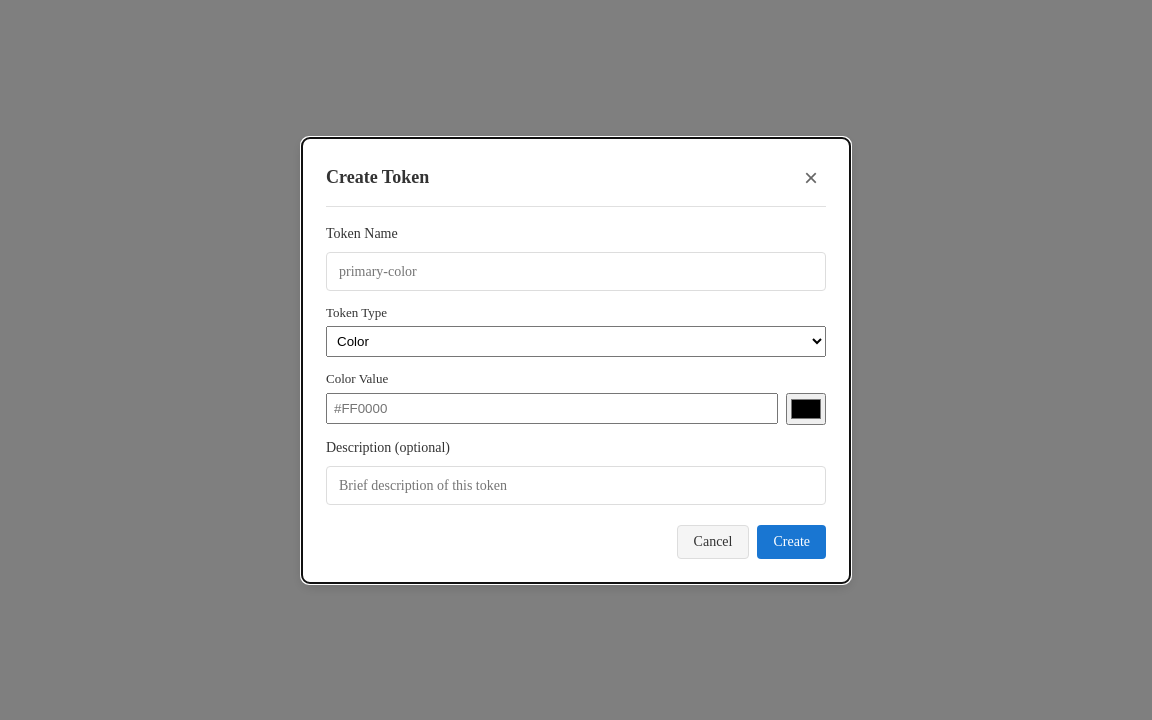
Test: TokenEditor › Create Mode › shows error when name is empty
Click the button "Create". click: (792, 542)
box: left=758, top=524, right=826, bottom=558
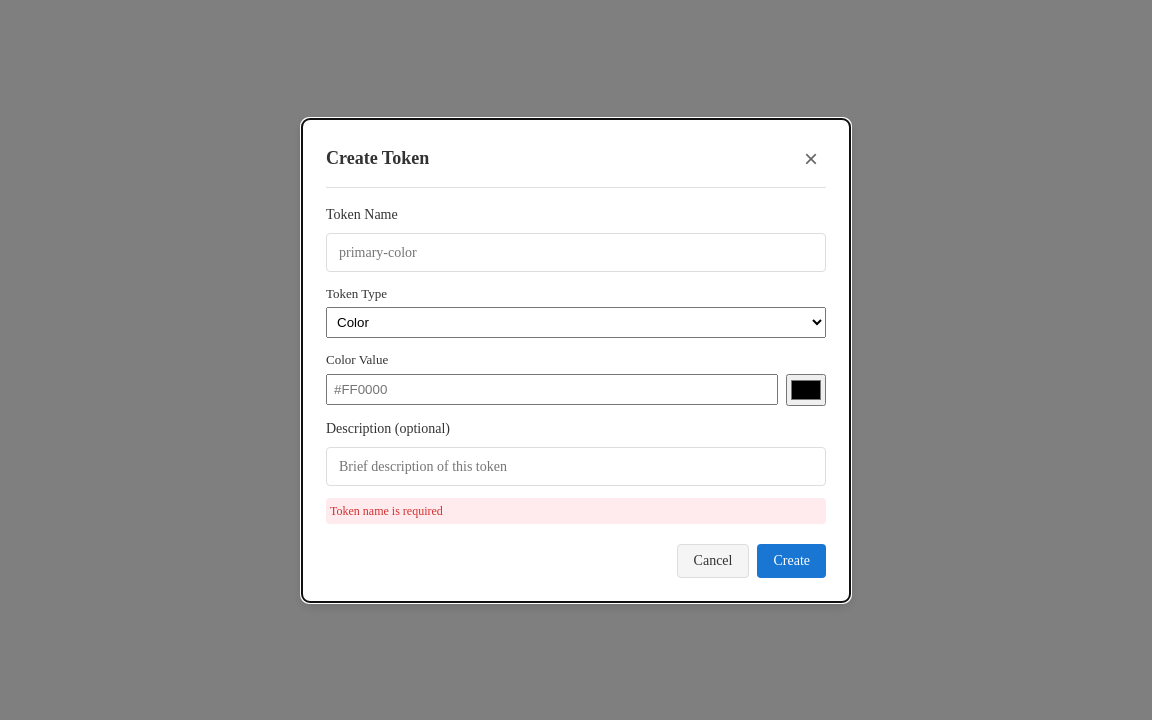
Expected: the text "Token name is required" is shown, left=326, top=498, right=826, bottom=524
